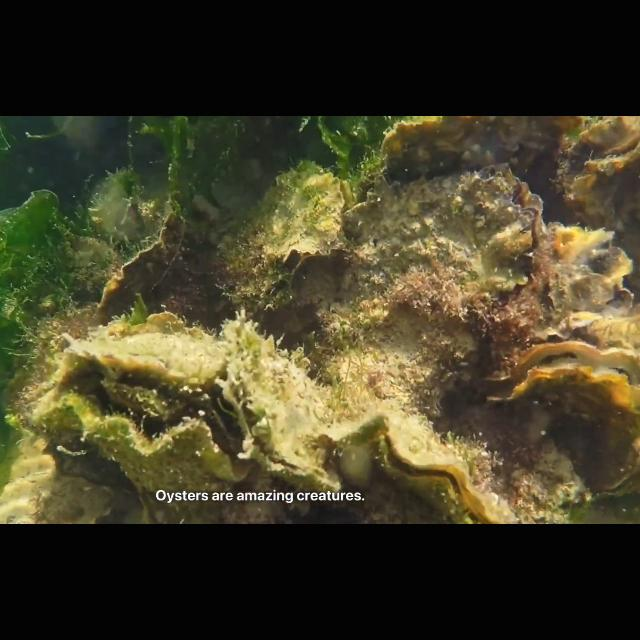Oyster-Closed: (378, 115, 566, 212), (96, 192, 222, 318)
Oyster-Open: (334, 157, 546, 417), (37, 322, 257, 498), (314, 399, 514, 525), (225, 307, 341, 488), (556, 116, 640, 302), (478, 337, 640, 427), (536, 215, 634, 328), (0, 455, 124, 525), (264, 165, 346, 268), (217, 210, 295, 314), (586, 431, 640, 495), (131, 467, 173, 525)
